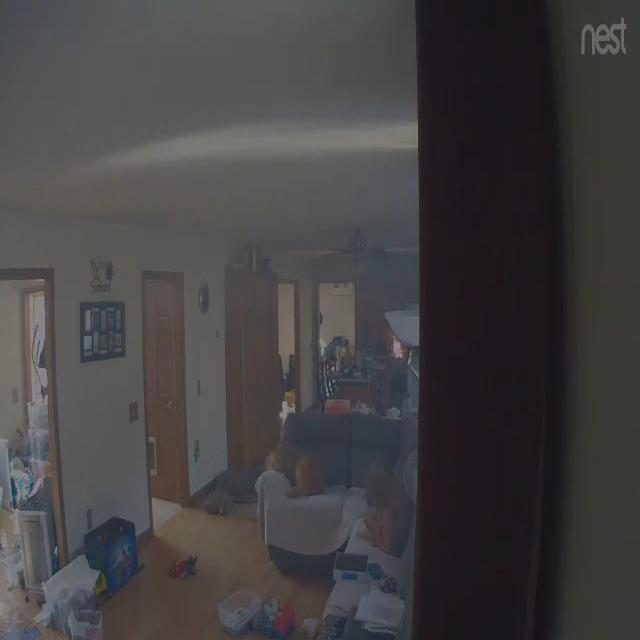fire: (393, 335, 403, 358)
